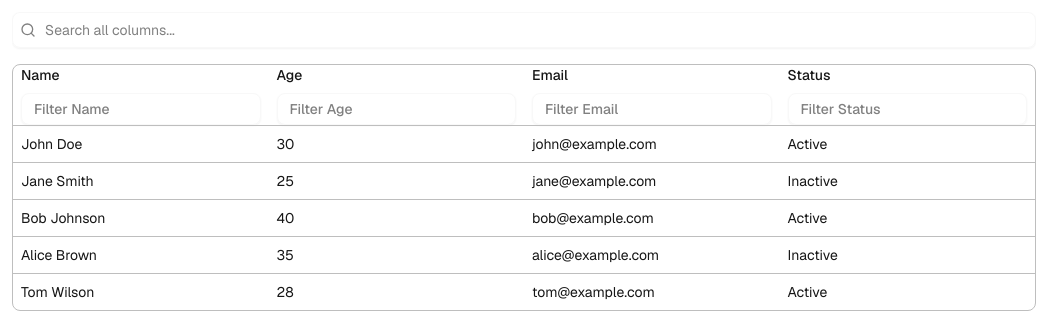
Test: DynamicTable › handles sorting when enabled
The width and height of the screenshot is (1048, 328).
Expected: the row "John Doe 30 john@example.com Active" is shown, [13,126,1035,162]
Expected: the row "Jane Smith 25 jane@example.com Inactive" is shown, [13,162,1035,200]
Click on name header to sort ascending
Click the column heading "Name".
click(141, 95)  # box [13,65,268,126]
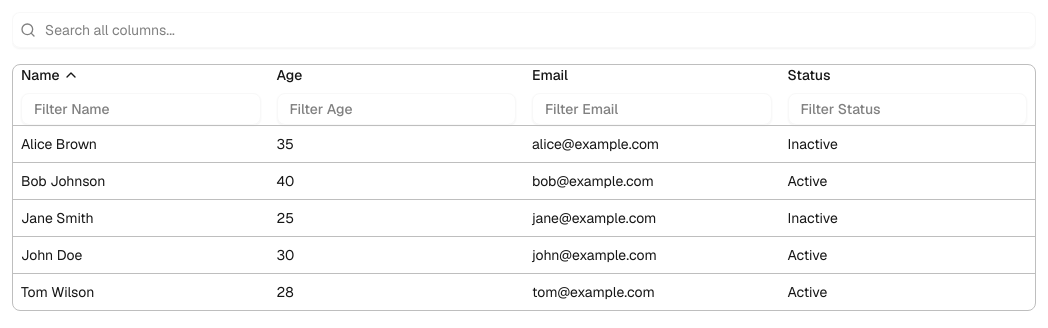
Now the row "Alice Brown 35 alice@example.com Inactive" is shown, box [13,126,1035,162]
Now the row "Bob Johnson 40 bob@example.com Active" is shown, box [13,162,1035,200]
Click again to sort descending
Click the column heading "Name".
click(141, 95)  # box [13,65,268,126]
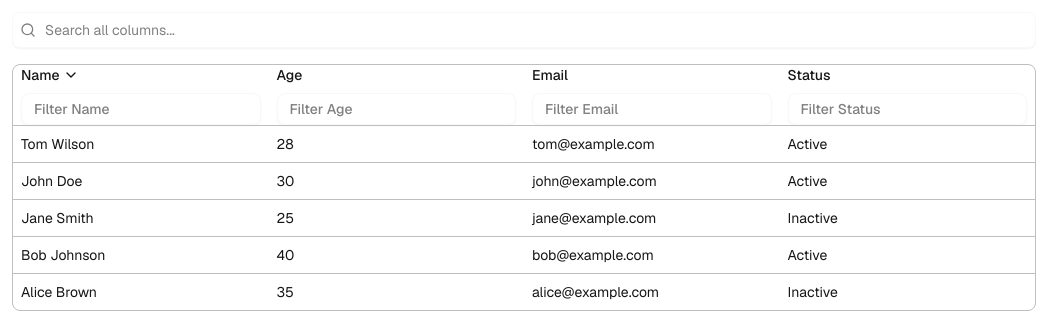
Now the row "Tom Wilson 28 tom@example.com Active" is shown, box [13,126,1035,162]
Now the row "John Doe 30 john@example.com Active" is shown, box [13,162,1035,200]
Click again to clear sort
Click the column heading "Name".
click(141, 95)  # box [13,65,268,126]
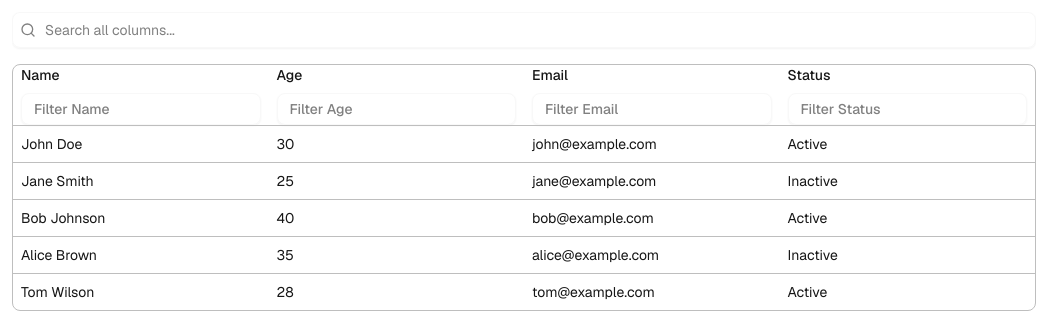
Now the row "John Doe 30 john@example.com Active" is shown, box [13,126,1035,162]
Now the row "Jane Smith 25 jane@example.com Inactive" is shown, box [13,162,1035,200]
